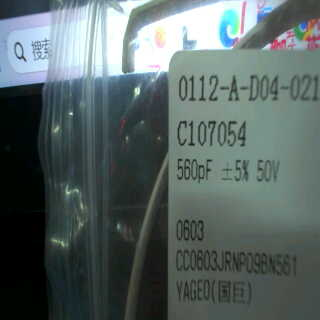560pF: (176, 157, 216, 184)
